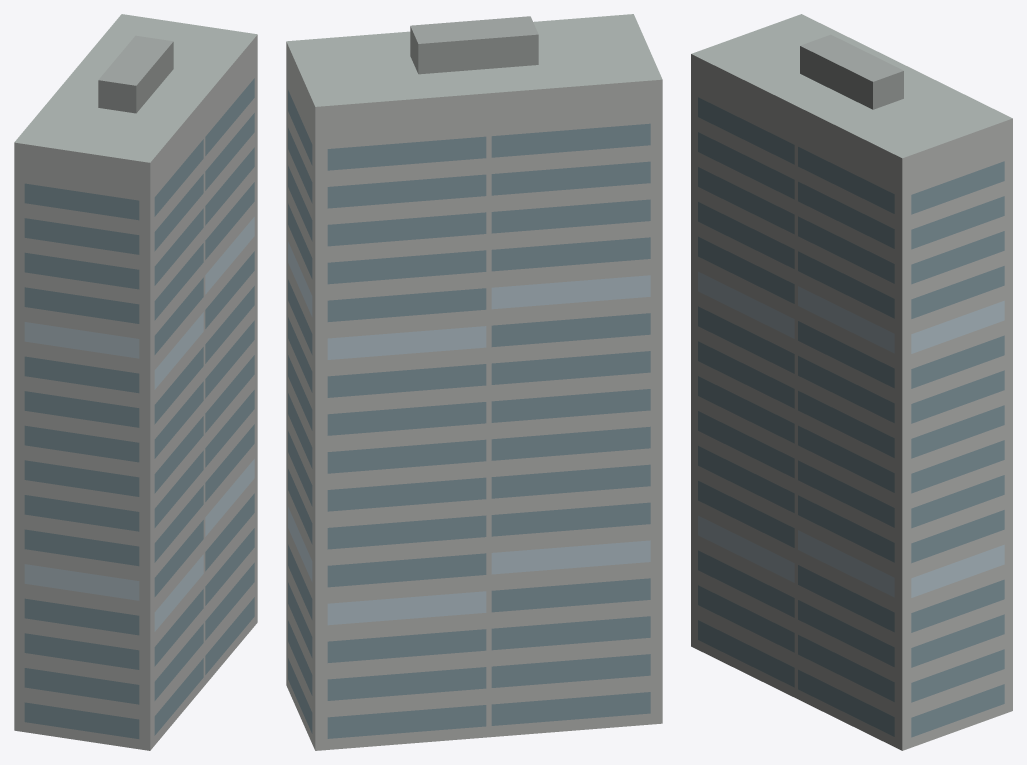
The model's file is fallback-dmc-raemian-e-pyeonhansesang-308.glb.
3 views of the same model, side by side, from view 1: azimuth 30°, elevation 25°; view 2: azimuth 150°, elevation 25°; view 3: azimuth 270°, elevation 25° (orthographic). The views are drawn at different scales.
Visible parts, largest first — view 1: fallback-dmc-raemian-e-pyeonhansesang-308; view 2: fallback-dmc-raemian-e-pyeonhansesang-308; view 3: fallback-dmc-raemian-e-pyeonhansesang-308.
Boxes of the visible parts, left/top/right/bottom form: fallback-dmc-raemian-e-pyeonhansesang-308: left=14, top=14, right=257, bottom=750; fallback-dmc-raemian-e-pyeonhansesang-308: left=286, top=14, right=662, bottom=750; fallback-dmc-raemian-e-pyeonhansesang-308: left=691, top=14, right=1012, bottom=750.
Bounding box in the file's own units: 24.95 × 50 × 23.5.
